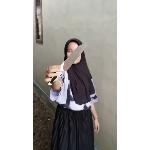Pisau: (47, 42, 92, 86)
